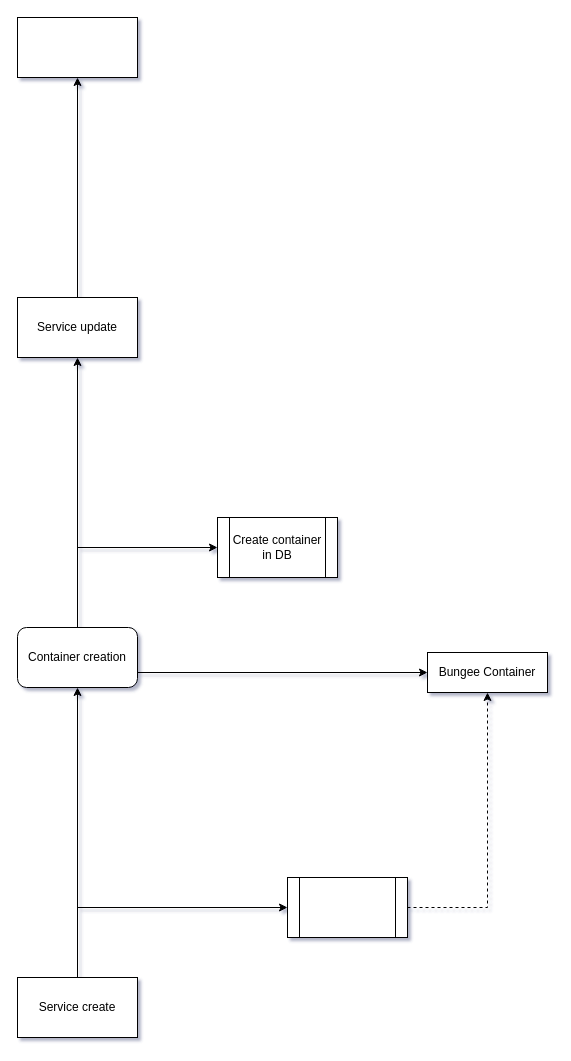
Some shapes in this 571 by 1061 pixel diagram are drawn without their labels. Here are the shapes that lost their labels. From the top down, the centre of each, then its label:
At (x=77, y=47): "Service death".
At (x=347, y=907): "Create service in DB".
